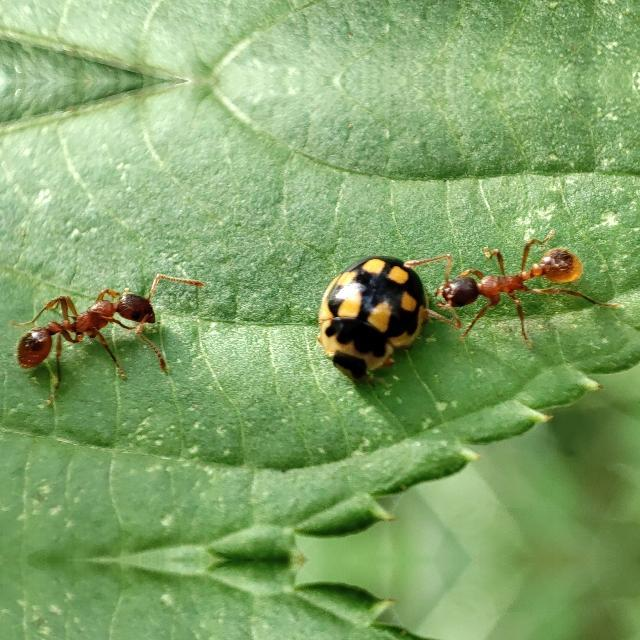Myrmica: (4, 270, 190, 390), (412, 230, 598, 334)
